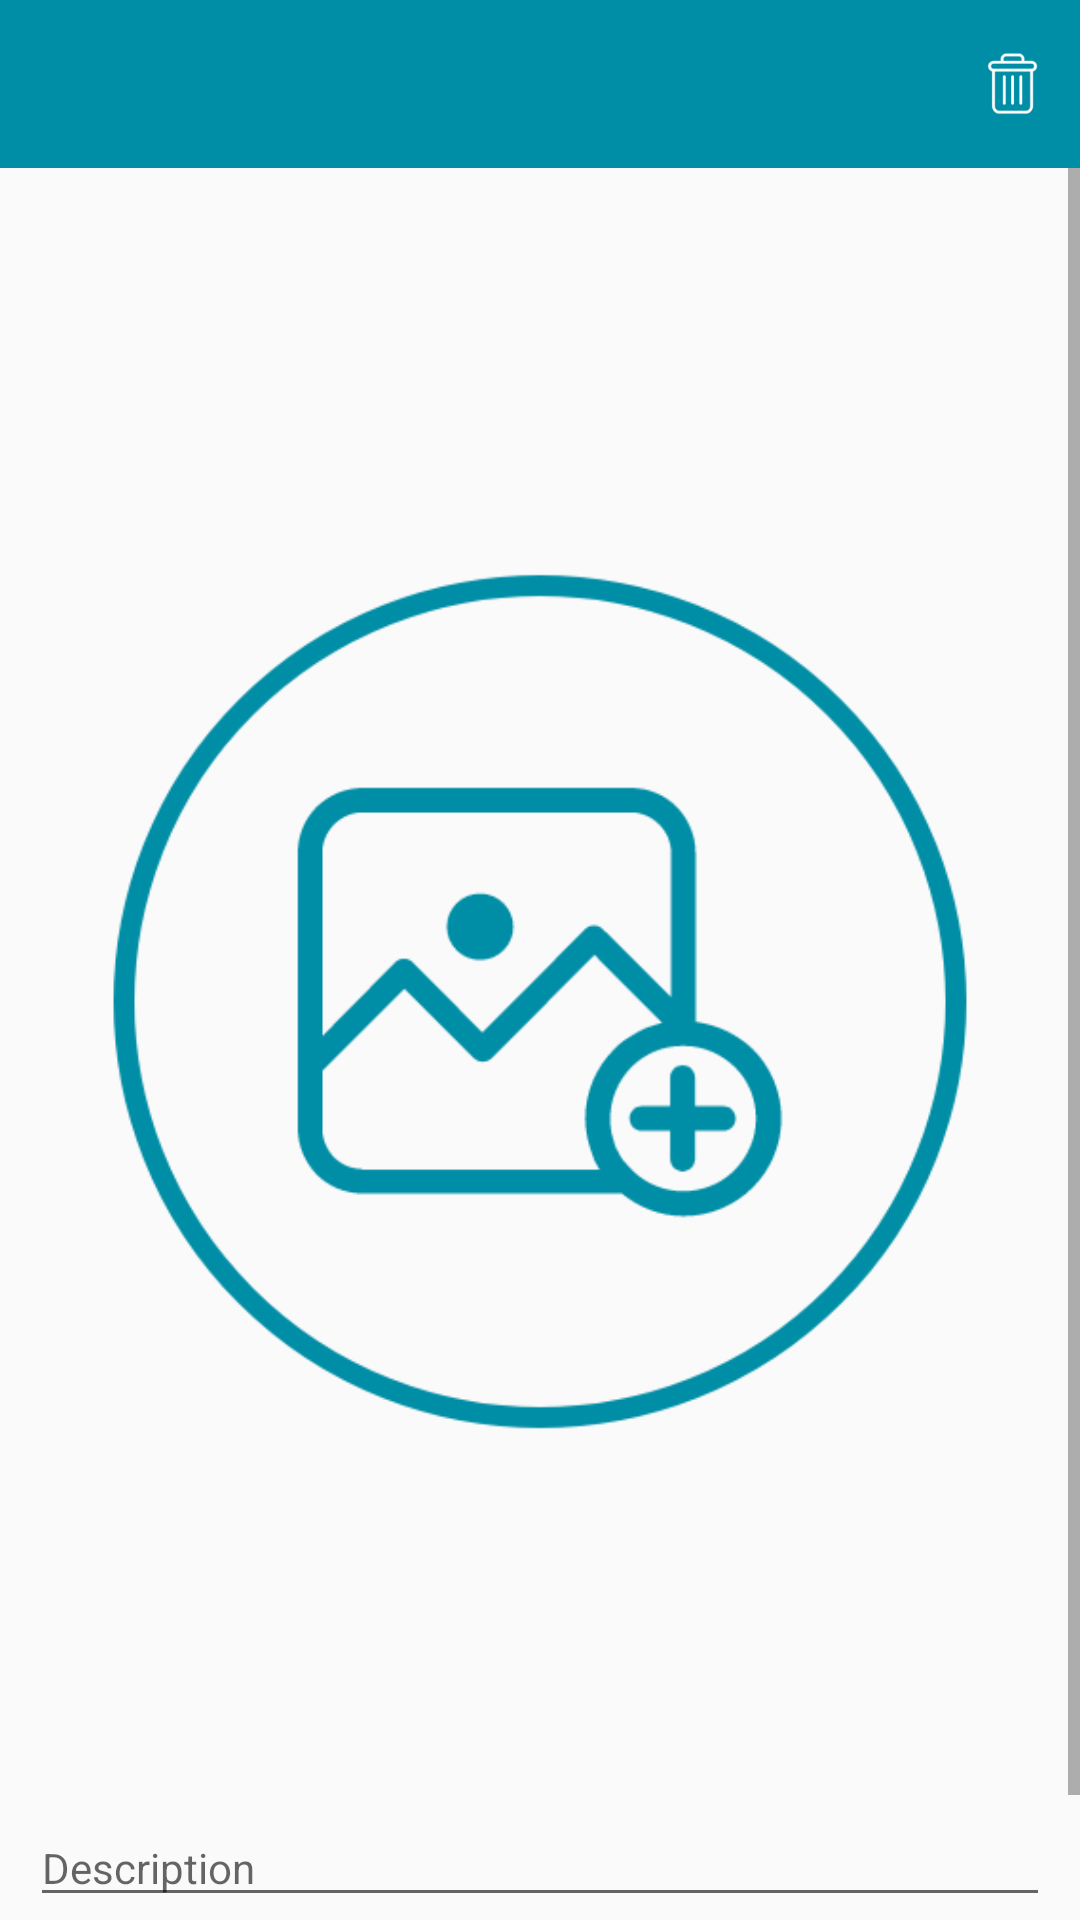

Icon click points for this 1080px×1920px phone screenshot, format (x=x, y=y):
delete: (x=1013, y=83)
